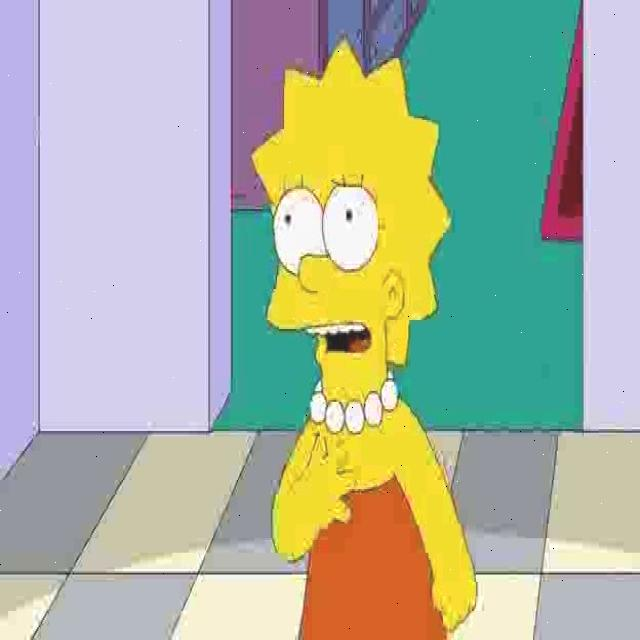Lisa Simpson: (251, 34, 454, 438)
